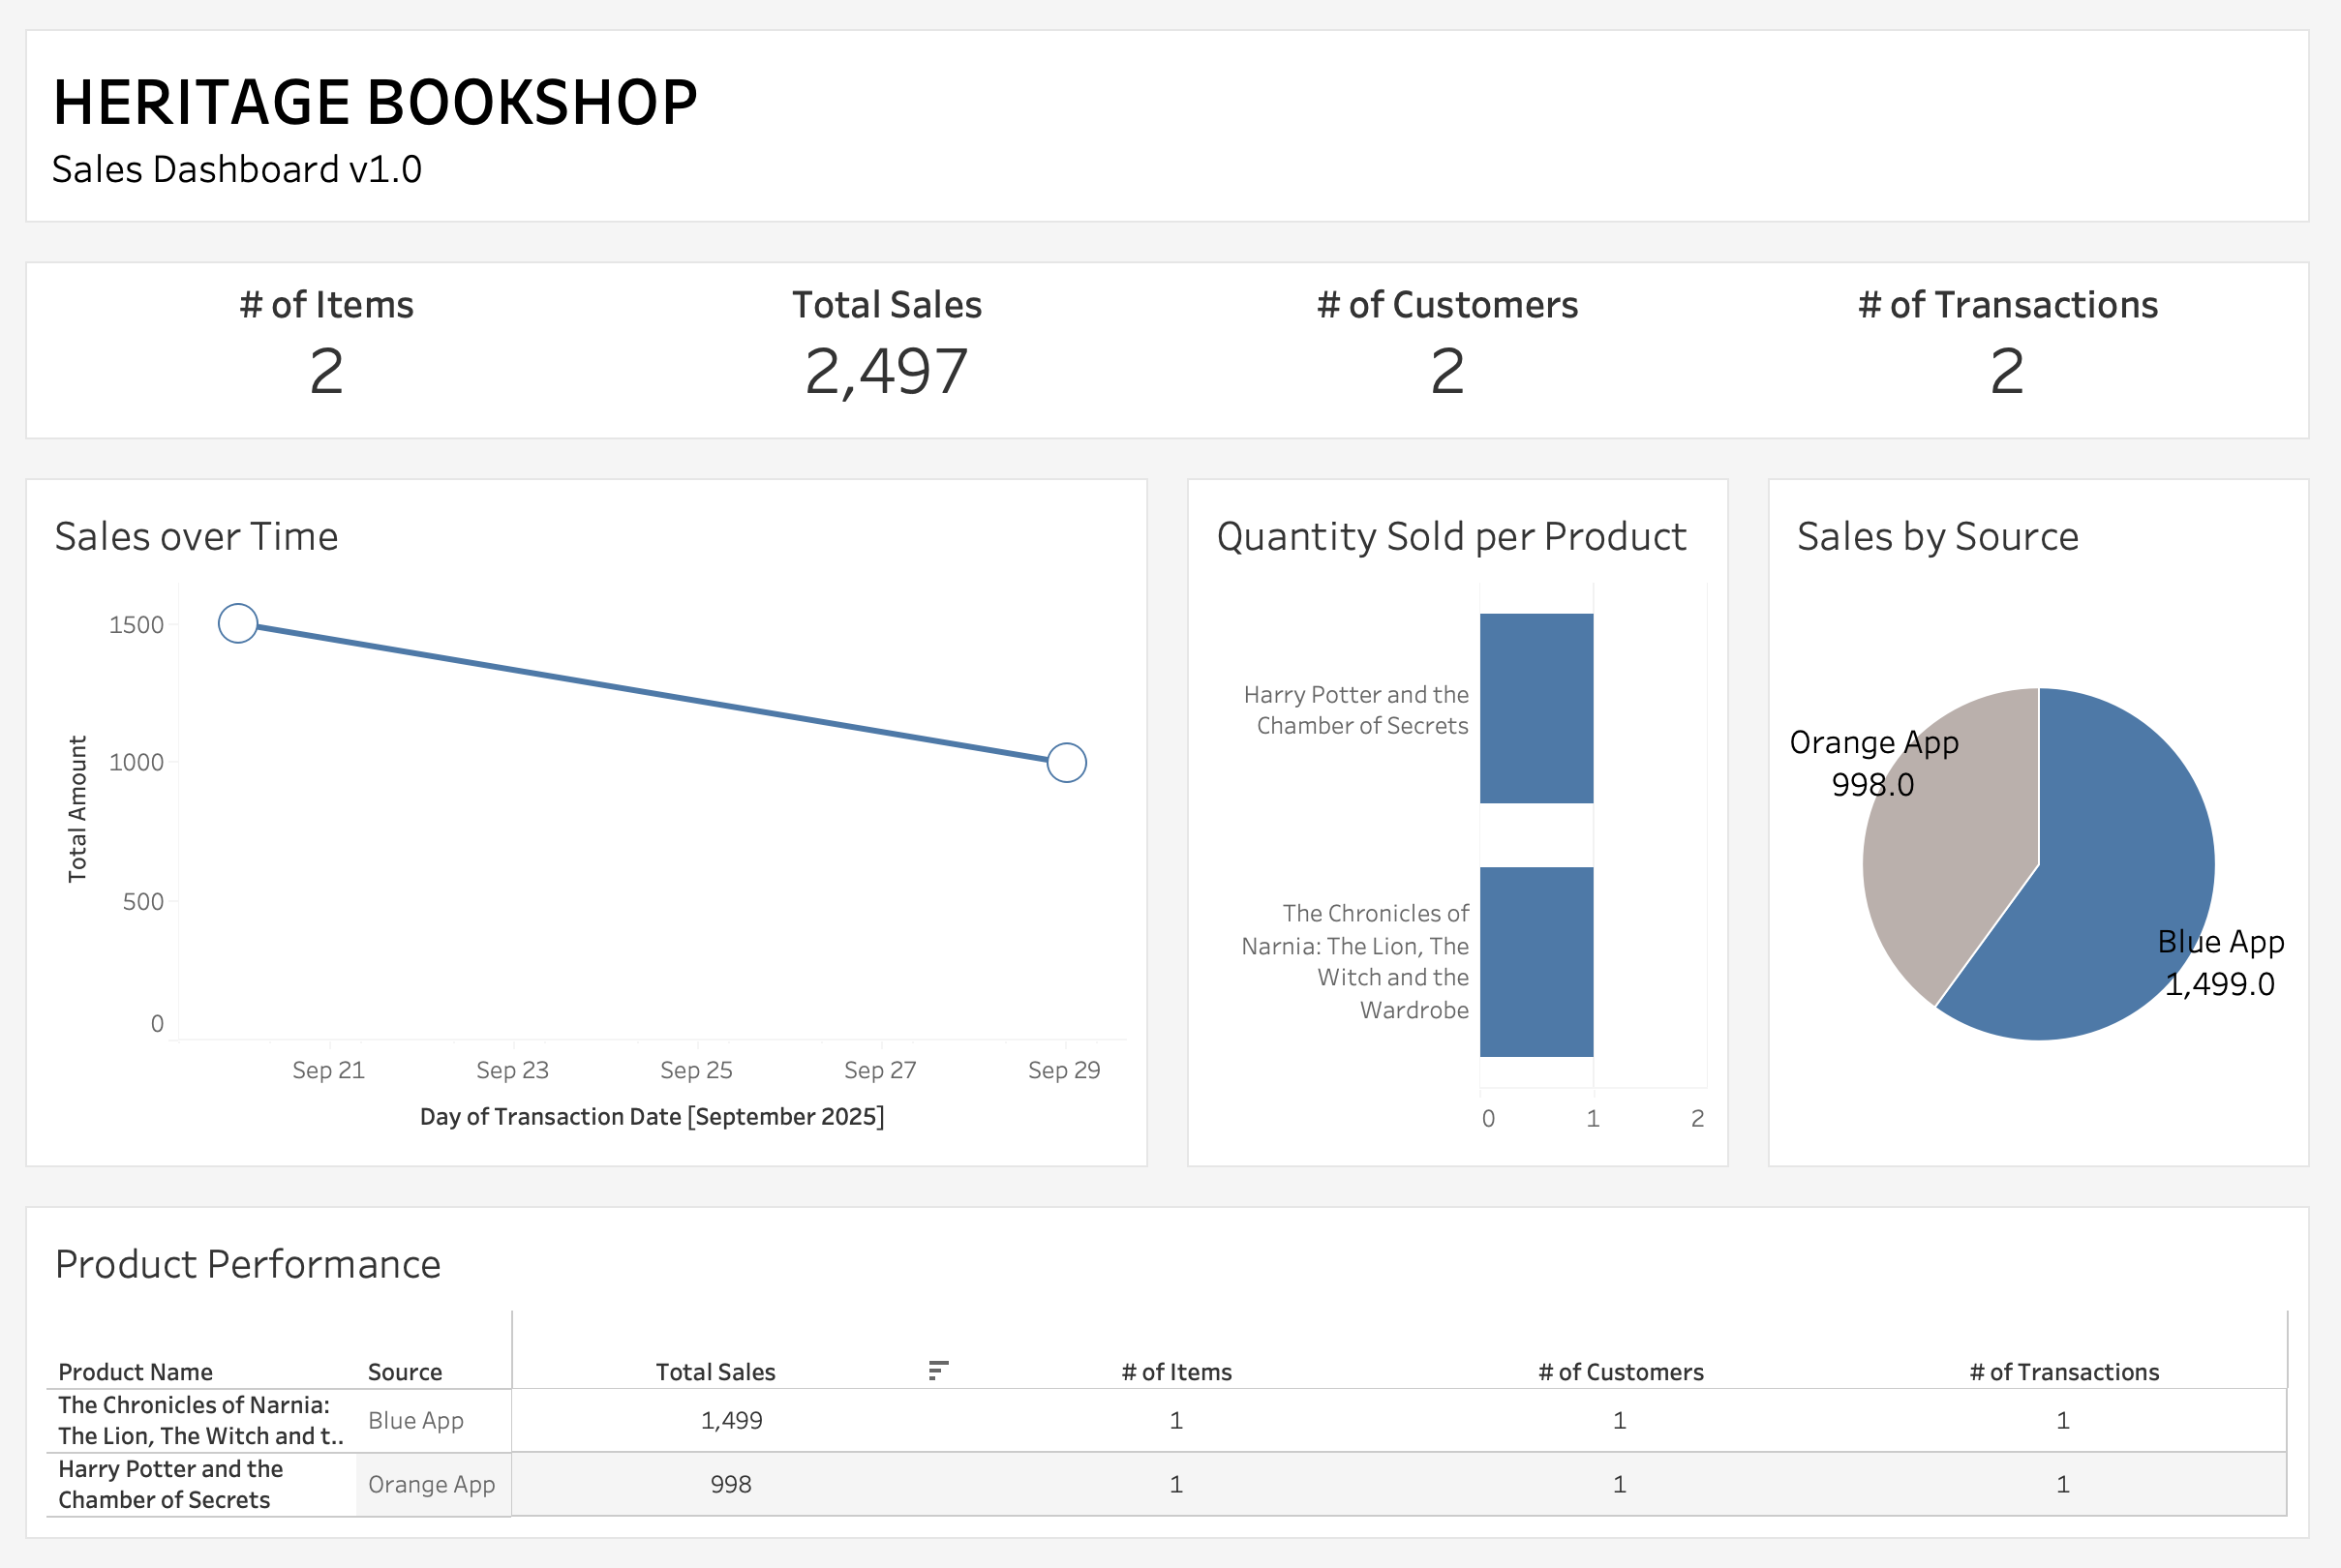

What the dashboard file says about the page in this screenshot:
{"tool":"tableau","page":{"name":"Dashboard 1","canvas":[1200,800],"ordinal":0},"visuals":[{"type":"text","box":[0,0,1200,120]},{"type":"legend","title":"Sales by Source","param":"[federated.04360001n3diu51dv7qcx1k3sibw].[none:source:nk]","box":[1032,8,160,66]},{"type":"worksheet","title":"KPIs","mark":"Automatic","box":[0,120,1200,112]},{"type":"worksheet","title":"Sales Trend","mark":"Automatic","rows":["price","price"],"cols":["transaction_date"],"box":[0,232,600,376]},{"type":"worksheet","title":"Quantity Sold per Product","mark":"Automatic","rows":["product_name"],"cols":["quantity"],"box":[600,232,300,376]},{"type":"worksheet","title":"Sales by Source","mark":"Pie","box":[900,232,300,376]},{"type":"worksheet","title":"Product Performance","mark":"Automatic","rows":["product_name","source"],"box":[0,608,1200,192]}]}

Visuals, with their boxes in screenshot pixels (x1, y1, x2, y2), scaled from the page's 1200x800 canvas onto the 2341x1568 screenshot:
text: 0, 0, 2340, 235
"Sales by Source" legend: 2013, 15, 2326, 145
"KPIs" worksheet: 0, 235, 2340, 455
"Sales Trend" worksheet: 0, 455, 1170, 1191
"Quantity Sold per Product" worksheet: 1170, 455, 1756, 1191
"Sales by Source" worksheet (Pie marks): 1756, 455, 2340, 1191
"Product Performance" worksheet: 0, 1191, 2340, 1567
